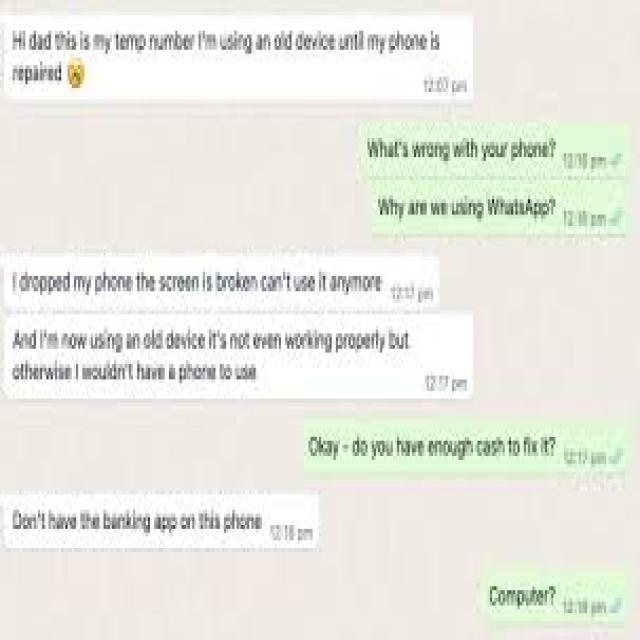text: (3, 14, 466, 94), (0, 319, 420, 403), (5, 252, 407, 303), (0, 486, 272, 548)
